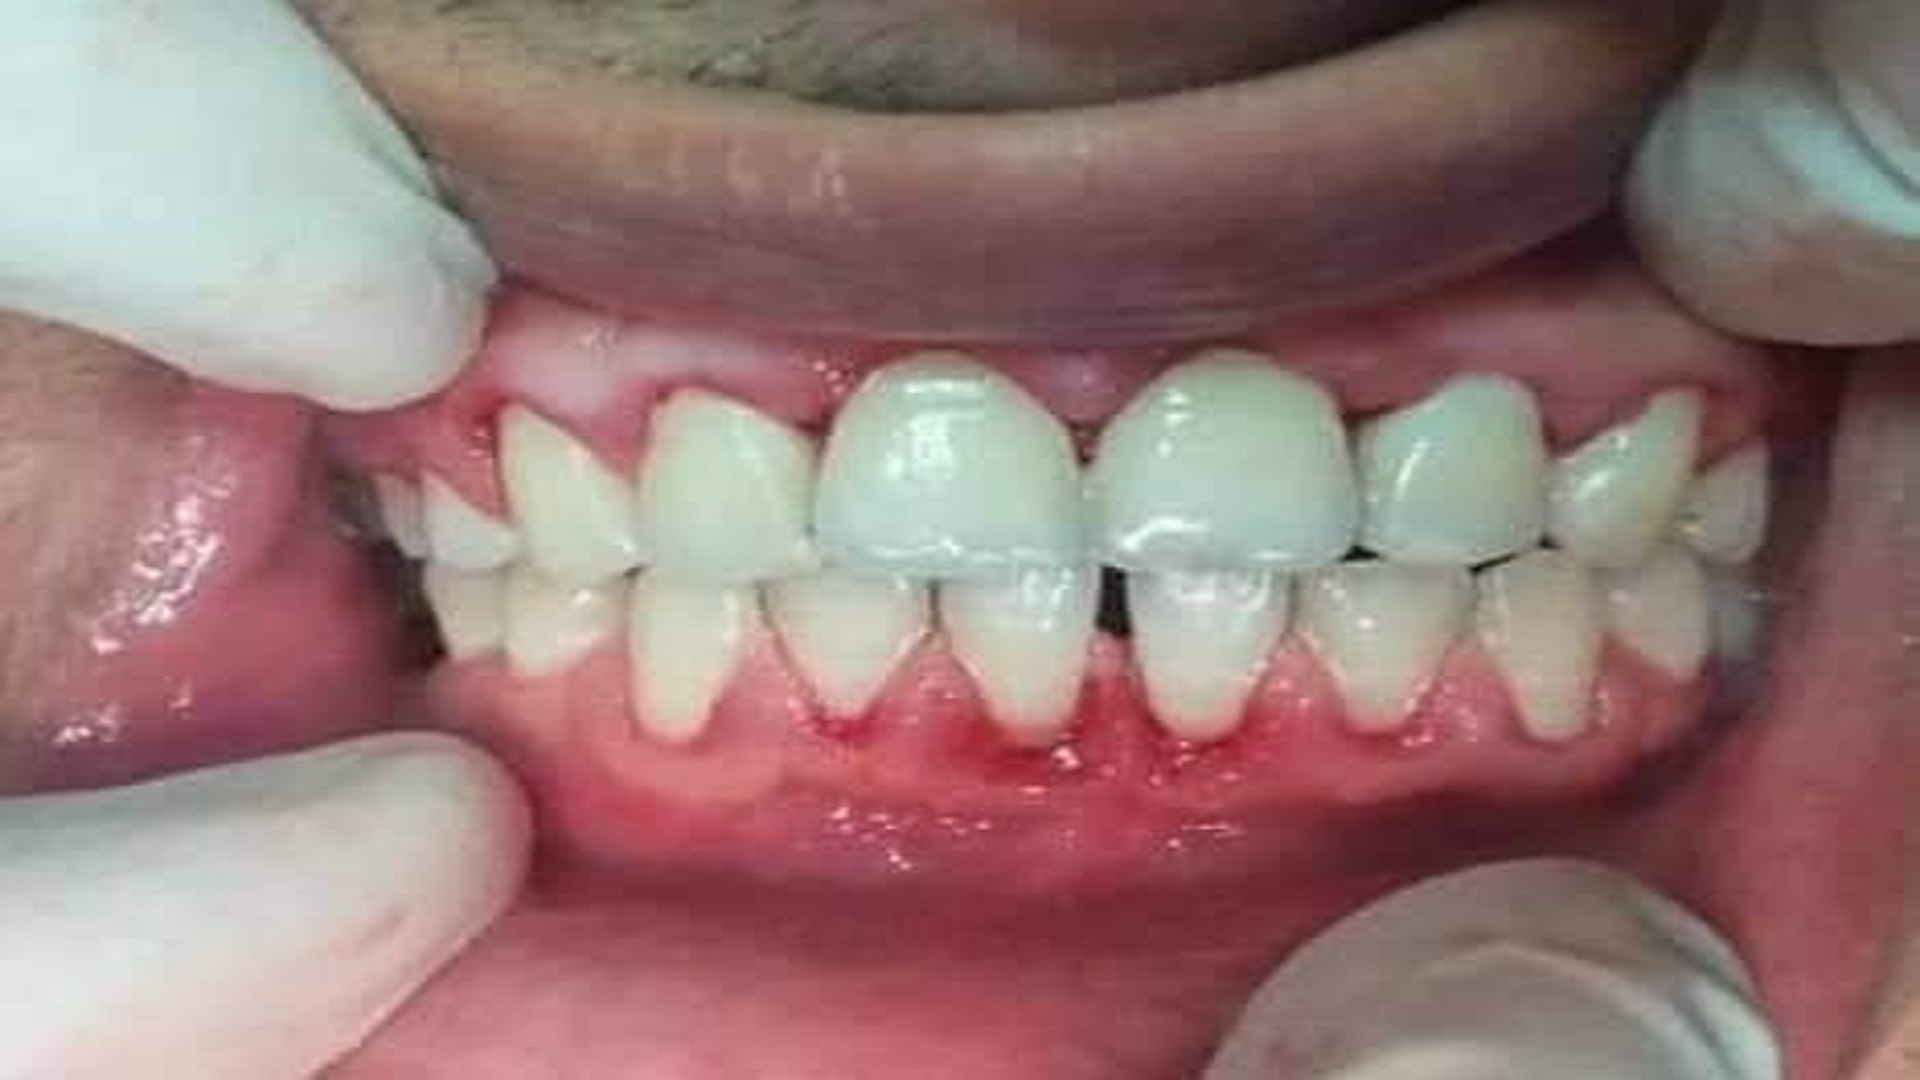tooth: (1084, 349, 1361, 568), (815, 349, 1084, 574), (632, 375, 823, 592), (1352, 373, 1544, 564), (1282, 564, 1477, 733), (1542, 392, 1705, 567), (1126, 570, 1288, 742), (942, 564, 1098, 742), (497, 401, 641, 588), (1469, 549, 1600, 742), (762, 567, 920, 715), (625, 588, 760, 745)
